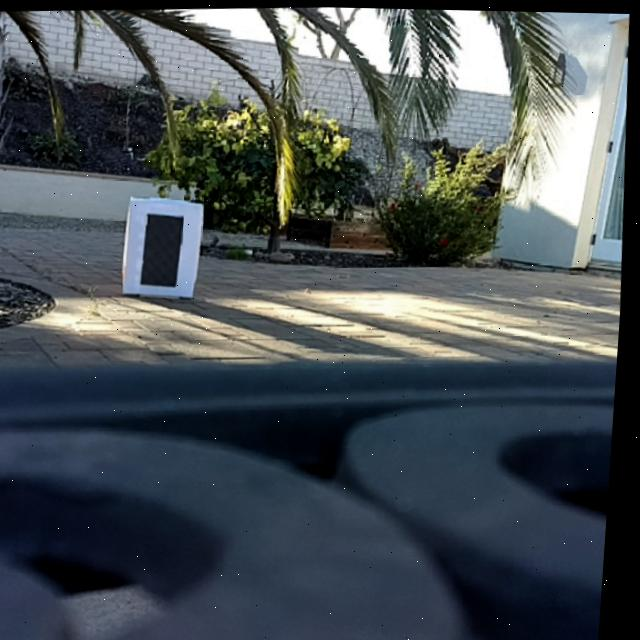led: (144, 211, 188, 286)
